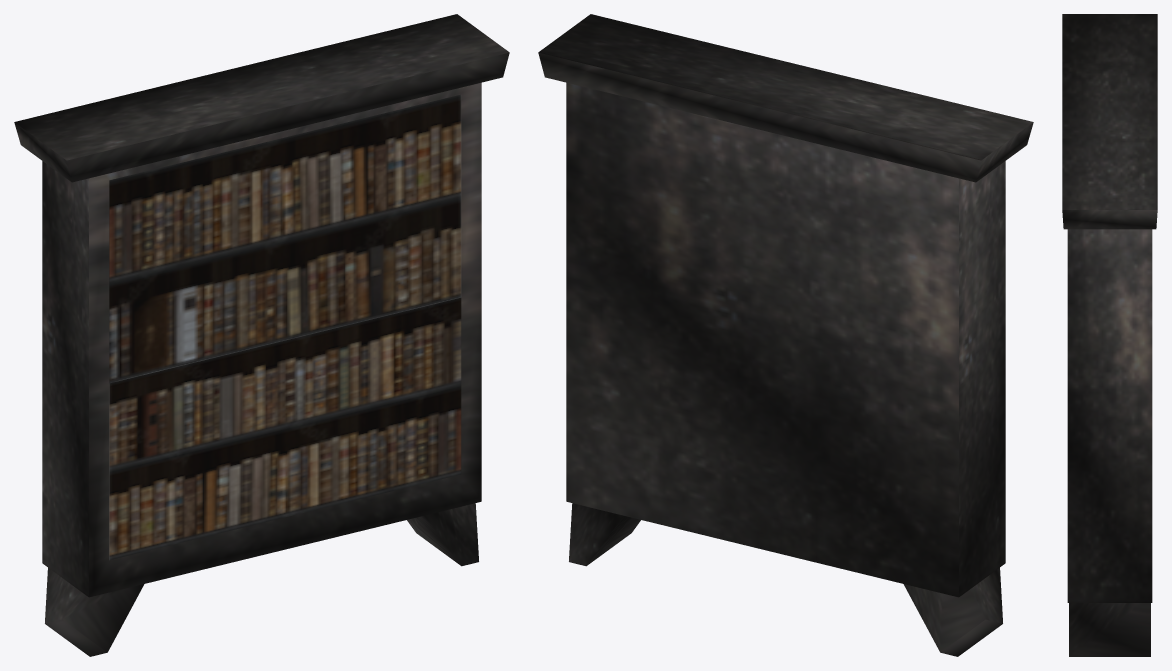
File: Bookshelf_1.fbx
The picture shows the model from 3 angles, left to right: view 1: azimuth 30°, elevation 25°; view 2: azimuth 150°, elevation 25°; view 3: azimuth 270°, elevation 25°; orthographic projection. The views are drawn at different scales.
Parts seen in each view (by area): view 1: Bookshelf1; view 2: Bookshelf1; view 3: Bookshelf1.
Boxes of the visible parts, left/top/right/bottom form: Bookshelf1: left=14, top=14, right=509, bottom=656; Bookshelf1: left=538, top=14, right=1033, bottom=656; Bookshelf1: left=1062, top=14, right=1157, bottom=656.
Size of the model in its own units: 240 by 262 by 49.36.
1 material, 1 textured.
